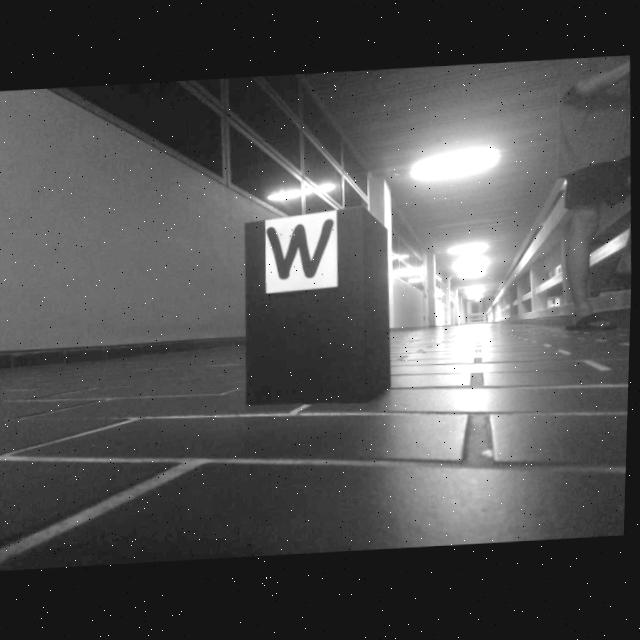W: (267, 219, 337, 283)
